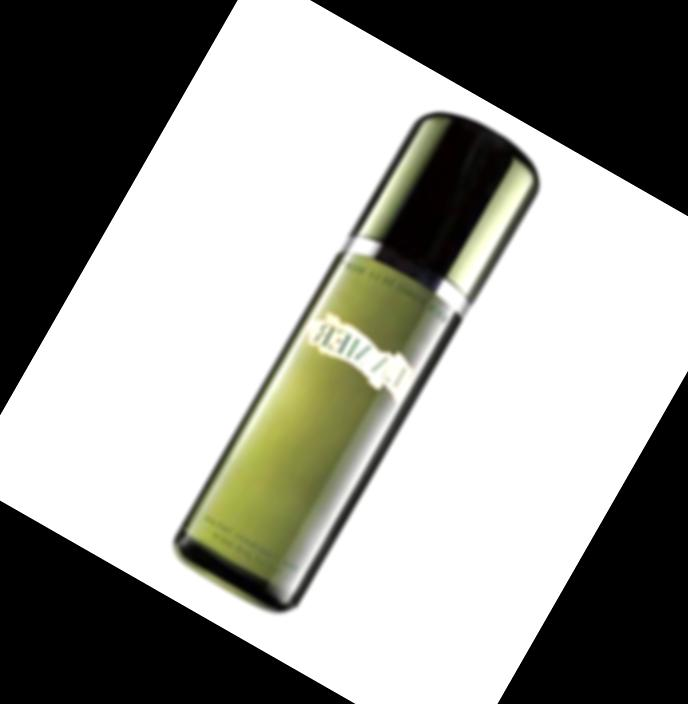cosmetic: (159, 96, 548, 622)
